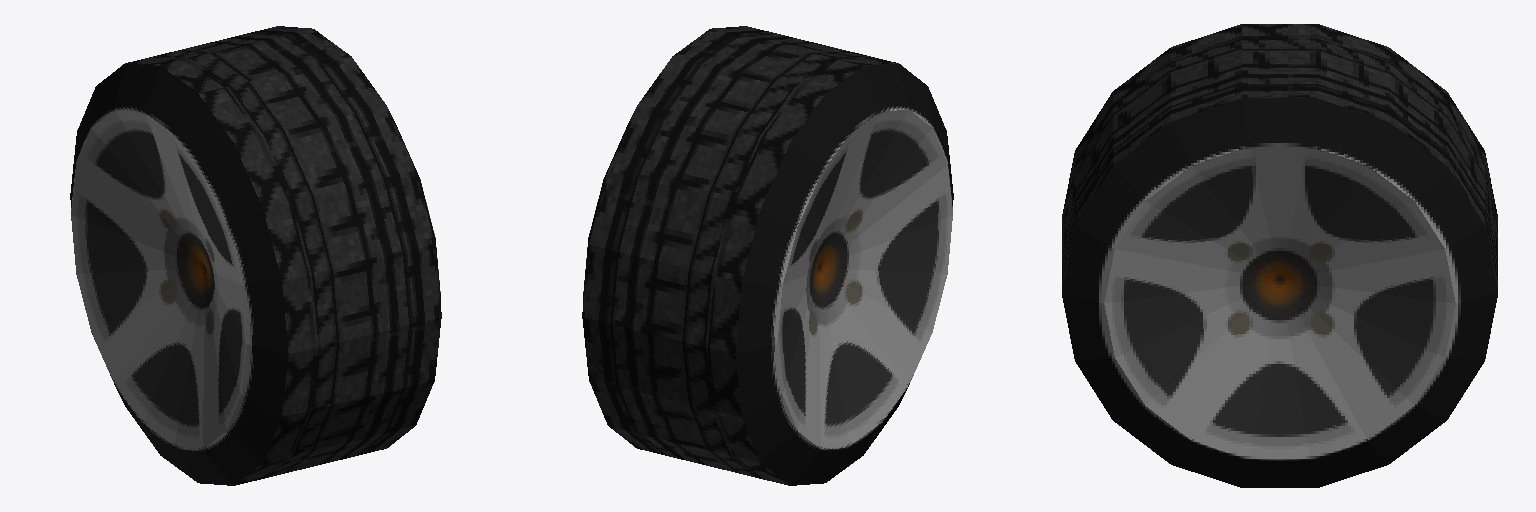
3 views of the same model, side by side, from view 1: azimuth 30°, elevation 25°; view 2: azimuth 150°, elevation 25°; view 3: azimuth 270°, elevation 25° (orthographic).
Visible parts, largest first — view 1: wheel_Cylinder01x; view 2: wheel_Cylinder01x; view 3: wheel_Cylinder01x.
Part boxes in pixels (x1,y1,x2,y2): wheel_Cylinder01x: (70, 26, 441, 485); wheel_Cylinder01x: (582, 26, 953, 485); wheel_Cylinder01x: (1062, 24, 1497, 487).
Bounding box in the file's own units: 30.68 × 58.78 × 59.69.
Materials: 1 (1 with a texture image).